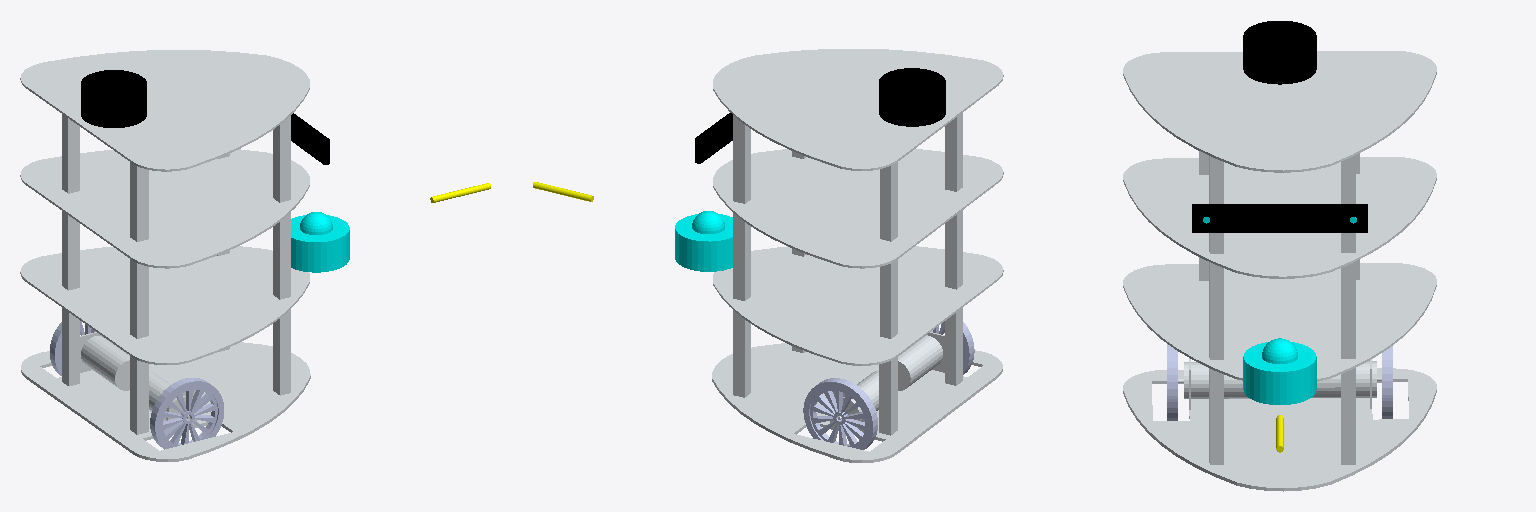
The robot description file, URDF, robot "achilles_base":
<robot
  name="achilles_base">
  <link
    name="base_link">
    <inertial>
      <origin
        xyz="0.0015558 0.20342 0.096724"
        rpy="0 0 1.57" />
      <mass
        value="3.0948" />
      <inertia
        ixx="0.089329"
        ixy="-5.9771E-05"
        ixz="1.6362E-05"
        iyy="0.0043884"
        iyz="-0.0037153"
        izz="0.090345" />
    </inertial>
    <visual>
      <origin
        xyz="0 0 0"
        rpy="0 0 1.57" />
      <geometry>
        <mesh
          filename="package://achilles_base/meshes/base_link.STL" />
      </geometry>
      <material
        name="">
        <color
          rgba="0.89412 0.91373 0.92941 1" />
      </material>
    </visual>
    <collision>
      <origin
        xyz="0 0 0"
        rpy="0 0 1.57" />
      <geometry>
        <mesh
          filename="package://achilles_base/meshes/base_link.STL" />
      </geometry>
    </collision>
  </link>
  

  <link
    name="left_Link">
    <inertial>
      <origin
        xyz="-2.7756E-17 3.1225E-17 0"
        rpy="-1.57 0 0" />
      <mass
        value="0.094313" />
      <inertia
        ixx="0"
        ixy="0"
        ixz="0"
        iyy="0"
        iyz="0"
        izz="0" />
    </inertial>
    <visual>
      <origin
        xyz="0 0 0"
        rpy="-1.57 0 0" />
      <geometry>
        <mesh
          filename="package://achilles_base/meshes/left_Link.STL" />
      </geometry>
      <material
        name="">
        <color
          rgba="0.79216 0.81961 0.93333 1" />
      </material>
    </visual>
    <collision>
      <origin
        xyz="0 0 0"
        rpy="-1.57 0 0" />
      <geometry>
        <mesh
          filename="package://achilles_base/meshes/left_Link.STL" />
      </geometry>
    </collision>
  </link>
  <joint
    name="wheel_left_joint"
    type="continuous">
    <origin
      xyz="0.038 0.147  0.035"
      rpy="0 6.123E-17 0" />
    <parent
      link="base_link" />
    <child
      link="left_Link" />
    <axis
      xyz="0 1 0" />
  </joint>


  <link
    name="right_Link">
    <inertial>
      <origin
        xyz="-2.7756E-17 3.1225E-17 0"
        rpy="-1.57 0 0" />
      <mass
        value="0.094313" />
      <inertia
        ixx="0"
        ixy="0"
        ixz="0"
        iyy="0"
        iyz="0"
        izz="0" />
    </inertial>
    <visual>
      <origin
        xyz="0 0 0"
        rpy="-1.57 0 0" />
      <geometry>
        <mesh
          filename="package://achilles_base/meshes/left_Link.STL" />
      </geometry>
      <material
        name="">
        <color
          rgba="0.79216 0.81961 0.93333 1" />
      </material>
    </visual>
    <collision>
      <origin
        xyz="0 0 0"
        rpy="-1.57 0 0" />
      <geometry>
        <mesh
          filename="package://achilles_base/meshes/left_Link.STL" />
      </geometry>
    </collision>
  </link>
  <joint
    name="wheel_right_joint"
    type="continuous">
    <origin
      xyz="0.042 -0.147 0.035"
      rpy="0 6.123E-17 0" />
    <parent
      link="base_link" />
    <child
      link="right_Link" />
    <axis
      xyz="0 1 0" />
  </joint>

  <link name="front_caster_link">
    <visual>
        <origin xyz="0 0 0" rpy="0 0 0"/>
        <geometry>
            <sphere radius="0.015" />
        </geometry>
        <material name="black">
            <color rgba="0 0 0 0.95"/>
        </material>
    </visual>
  </link>

  <joint name="front_caster_joint" type="continuous">
      <origin xyz="0.25 0 -0.015" rpy="0 0 0"/>
      <parent link="base_link"/>
      <child link="front_caster_link"/>
      <axis xyz="0 1 0"/>
  </joint>


  <link name="laser_link">
		<visual>
			<origin xyz=" 0 0 0 " rpy="0 0 0" />
			<geometry>
				<cylinder length="0.05" radius="0.05"/>
			</geometry>
      <material
        name="black">
        <color
          rgba="0 0 0 1" />
      </material>
		</visual>
    </link>

    <joint name="laser_joint" type="fixed">
        <origin xyz="0 0 0.51" rpy="0 0 0"/>
        <parent link="base_link"/>
        <child link="laser_link"/>
    </joint>




  <!-- Camera -->
  <link name="camera_link">
    <visual>
        <origin xyz=" 0 0 0 " rpy="0 -1.57 0" />
        <geometry>
            <box size="0.01 0.24 0.04" />
        </geometry>
        <material
          name="black">
          <color
            rgba="0 0 0 1" />
        </material>
    </visual>
    <collision>
        <origin xyz=" 0 0 0 " rpy="0 0 0" />
        <geometry>
            <box size="0.01 0.24 0.04" />
        </geometry>
    </collision>
  </link>

  <joint name="camera_joint" type="fixed">
      <origin xyz="0.3 0 0.4" rpy="0 1.57 0" />
      <parent link="base_link"/>
      <child link="camera_link"/>
  </joint>

  <!--left_camera-->
  <link name="left_camera_link">
  <visual>
      <origin xyz=" 0 0 0 " rpy="0 0 0" />
      <geometry>
          <cylinder length="0.01" radius="0.005"/>
      </geometry>
      <material
        name="blue">
        <color
          rgba="0 1 1 1" />
      </material>
  </visual>
  <collision>
      <origin xyz=" 0 0 0 " rpy="0 0 0" />
      <geometry>
          <cylinder length="0.01" radius="0.005"/>
      </geometry>
  </collision>
  </link>

  <joint name="left_camera_joint" type="fixed">
    <origin xyz="0 0.1 0.001" rpy="0 0 -1.57" />
    <parent link="camera_link"/>
    <child link="left_camera_link"/>
  </joint>


  <!--right_camera-->
  <link name="right_camera_link">
  <visual>
      <origin xyz=" 0 0 0 " rpy="0 0 0" />
      <geometry>
          <cylinder length="0.01" radius="0.005"/>
      </geometry>
      <material
        name="blue">
        <color
          rgba="0 1 1 1" />
      </material>
  </visual>
  <collision>
      <origin xyz=" 0 0 0 " rpy="0 0 0" />
      <geometry>
          <cylinder length="0.01" radius="0.005"/>
      </geometry>
  </collision>
  </link>

  <joint name="right_camera_joint" type="fixed">
    <origin xyz="0 -0.1 0.001" rpy="0 0 -1.57" />
    <parent link="camera_link"/>
    <child link="right_camera_link"/>
  </joint>


  <!--servo -->
  <link name="pzt_link">
  <visual>
      <origin xyz=" 0 0 0.015 " rpy="0 0 0" />
      <geometry>
          <cylinder length="0.05" radius="0.05"/>
      </geometry>
      <material
        name="blue">
        <color
          rgba="0 1 1 1" />
      </material>
  </visual>
  <collision>
      <origin xyz=" 0 0 0.015 " rpy="0 0 0" />
      <geometry>
          <cylinder length="0.001" radius="0.05"/>
      </geometry>
  </collision>
  </link>

  <joint name="pzt_link_joint" type="fixed">
    <origin xyz="0.35 0 0.175" rpy="0 0 0" />
    <parent link="base_link"/>
    <child link="pzt_link"/>
  </joint>


  <link name="servo_1_link">
  <visual>
      <origin xyz=" 0 0 0.015 " rpy="0 0 0" />
      <geometry>
          <cylinder length="0.05" radius="0.05"/>
      </geometry>
      <material
        name="blue">
        <color
          rgba="0 1 1 1" />
      </material>
  </visual>
  <collision>
      <origin xyz=" 0 0 0.015 " rpy="0 0 0" />
      <geometry>
          <cylinder length="0.05" radius="0.05"/>
      </geometry>
  </collision>
  </link>

  <joint name="servo_1_joint" type="revolute">
    <origin xyz="0.35 0 0.175" rpy="0 0 0" />
    <parent link="base_link"/>
    <child link="servo_1_link"/>
    <axis xyz="0 0 1"/>
    <limit effort="1000.0" lower="-1.57" upper="1.57" velocity="0.5"/>
  </joint>

  <link name="servo_2_link">
  <visual>
      <origin xyz=" 0 0 0 " rpy="0 0 0" />
      <geometry>
          <sphere radius="0.025" />
      </geometry>
      <material
        name="blue">
        <color
          rgba="0 1 1 1" />
      </material>
  </visual>
  <collision>
      <origin xyz=" 0 0 0 " rpy="0 0 0" />
      <geometry>
          <sphere radius="0.025" />
      </geometry>
  </collision>
  </link>

  <joint name="servo_2_joint" type="revolute">
    <origin xyz="0 0 0.04" rpy="0 0 0" />
    <parent link="servo_1_link"/>
    <child link="servo_2_link"/>
    <axis xyz="0 1 0"/>
    <limit effort="1000.0" lower="-1.57" upper="1.57" velocity="0.5"/>
  </joint>


  <link name="gun_link">
  <visual>
      <origin xyz=" 0.25 0 0 " rpy="0 1.57 0" />
      <geometry>
          <cylinder length="0.1" radius="0.005"/>
      </geometry>
      <material
        name="yellow">
        <color
          rgba="1 1 0 1" />
      </material>
  </visual>
  <collision>
      <origin xyz=" 0.25 0 0 " rpy="0 1.57 0" />
      <geometry>
          <cylinder length="0.1" radius="0.005"/>
      </geometry>
  </collision>
  </link>

  <joint name="gun_joint" type="fixed">
    <origin xyz="0 0 0" rpy="0 0 0" />
    <parent link="servo_2_link"/>
    <child link="gun_link"/>
  </joint>
    
</robot>

--- Facts derived from the render (not from the file) ---
The picture shows the robot from 3 angles, left to right: view 1: azimuth 30°, elevation 25°; view 2: azimuth 150°, elevation 25°; view 3: azimuth 270°, elevation 25°; orthographic projection.
Model achilles_base with 12 links and 11 joints (2 revolute, 3 continuous, 6 fixed), rooted at base_link, posed every joint at zero.
Links seen in each view (by area): view 1: base_link, right_Link, laser_link, pzt_link, camera_link, servo_2_link, left_Link; view 2: base_link, left_Link, laser_link, pzt_link, camera_link, servo_2_link, right_Link; view 3: base_link, camera_link, laser_link, pzt_link, right_Link, left_Link, servo_2_link.
Link boxes in pixels (bbox=[...]): base_link: bbox=[20, 50, 310, 461]; right_Link: bbox=[150, 378, 223, 449]; laser_link: bbox=[81, 70, 146, 127]; pzt_link: bbox=[291, 215, 349, 272]; camera_link: bbox=[291, 113, 329, 164]; servo_2_link: bbox=[300, 212, 332, 234]; left_Link: bbox=[50, 321, 118, 375]; base_link: bbox=[712, 49, 1003, 462]; left_Link: bbox=[803, 378, 877, 449]; laser_link: bbox=[879, 68, 945, 126]; pzt_link: bbox=[675, 214, 732, 271]; camera_link: bbox=[695, 113, 732, 163]; servo_2_link: bbox=[692, 211, 724, 233]; right_Link: bbox=[931, 321, 974, 374]; base_link: bbox=[1123, 51, 1436, 491]; camera_link: bbox=[1192, 204, 1367, 232]; laser_link: bbox=[1243, 21, 1316, 84]; pzt_link: bbox=[1243, 342, 1316, 404]; right_Link: bbox=[1167, 344, 1177, 420]; left_Link: bbox=[1382, 346, 1392, 418]; servo_2_link: bbox=[1262, 338, 1297, 363].
Bounding box of the posed robot: 0.7128 × 0.43 × 0.565 m (x, y, z).
Meshes: 2 distinct files referenced, 3 mesh visuals loaded (2 binary STL).
